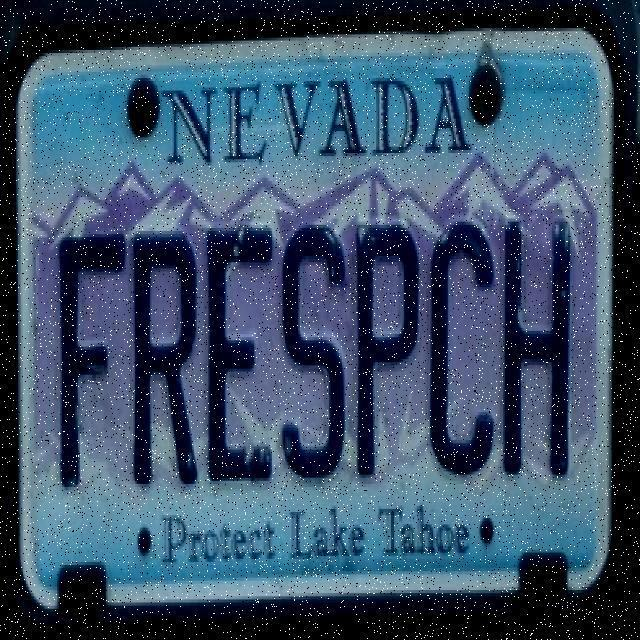LicensePlate: (10, 31, 631, 621)
